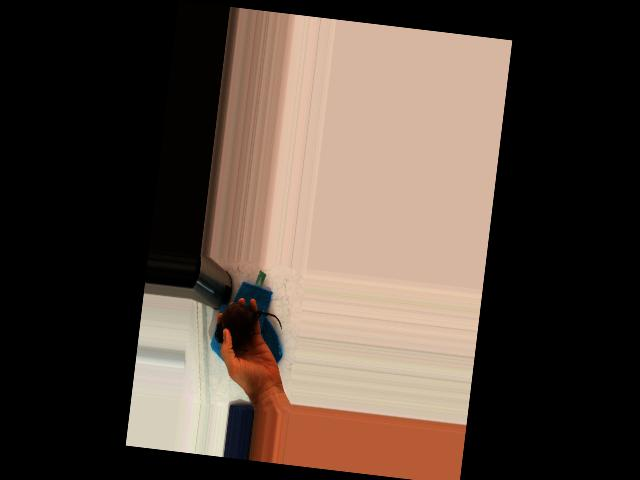beet: (213, 300, 284, 354)
